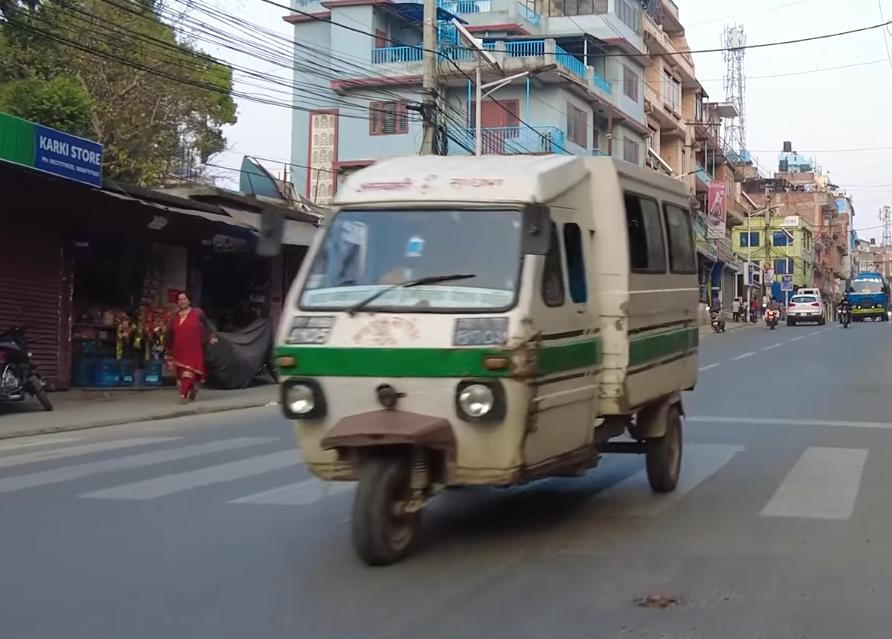bike: (0, 315, 58, 419)
bus: (844, 267, 891, 323)
car: (783, 291, 831, 331)
tempo: (261, 145, 709, 577)
